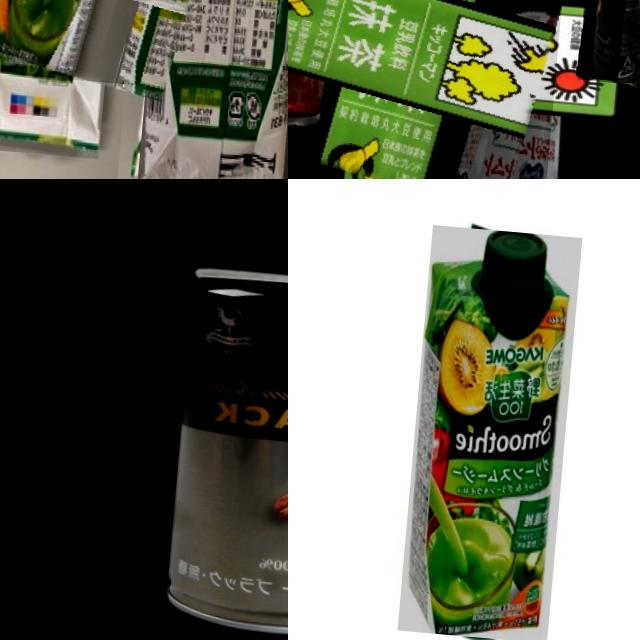Aluminium Foil: (396, 223, 581, 640), (288, 0, 569, 179), (135, 0, 288, 179), (0, 0, 239, 90)
Can: (150, 253, 288, 640), (469, 0, 576, 179), (288, 0, 354, 146), (576, 0, 640, 85)
